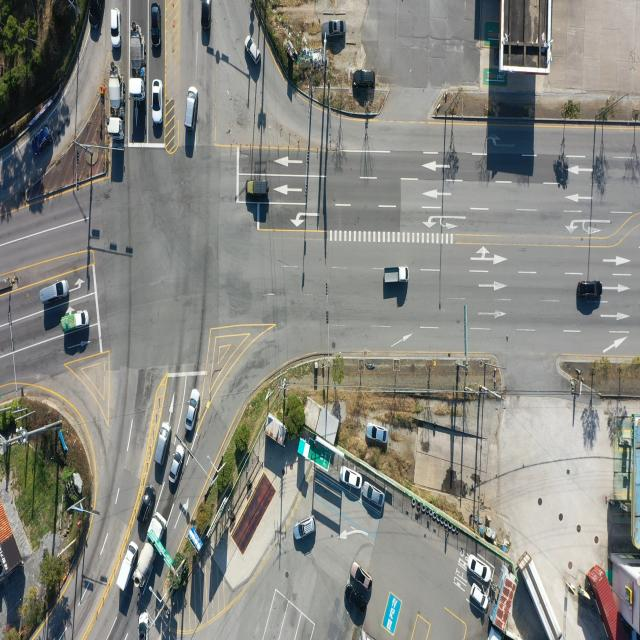car: (344, 583, 367, 619), (351, 562, 372, 599), (41, 280, 70, 305), (154, 421, 170, 464), (184, 388, 199, 432), (169, 443, 185, 482), (138, 490, 154, 526), (471, 556, 492, 583), (184, 86, 197, 129), (151, 78, 163, 123), (293, 518, 315, 542), (363, 483, 384, 508), (354, 67, 378, 88), (342, 466, 363, 489), (578, 281, 604, 299), (471, 584, 489, 610), (88, 0, 103, 31), (244, 36, 259, 66), (366, 423, 388, 443), (150, 3, 159, 50), (245, 179, 269, 196), (110, 7, 120, 47), (200, 0, 212, 31), (326, 20, 345, 37), (138, 612, 149, 640)
medium_truck: (524, 558, 564, 640), (137, 514, 168, 588), (130, 30, 147, 96), (109, 78, 127, 139)
small_truck: (118, 541, 140, 592), (63, 310, 89, 332), (383, 268, 407, 286)
